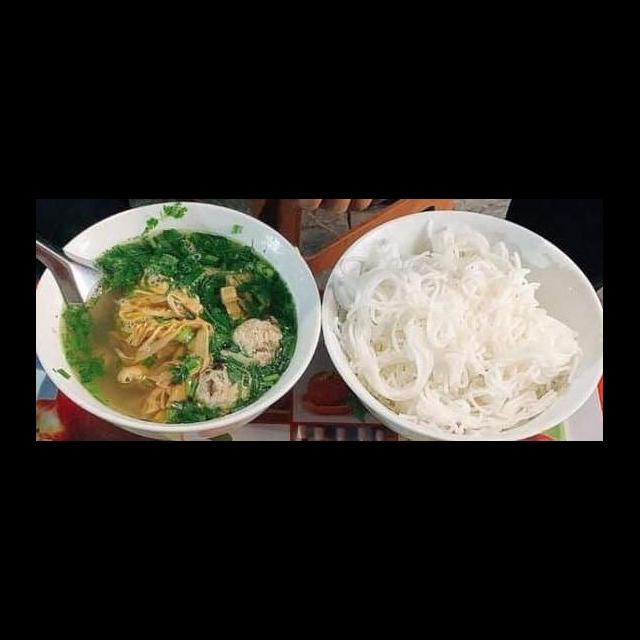bun: (322, 216, 582, 441)
vien moc: (184, 359, 258, 417), (218, 314, 288, 370)
